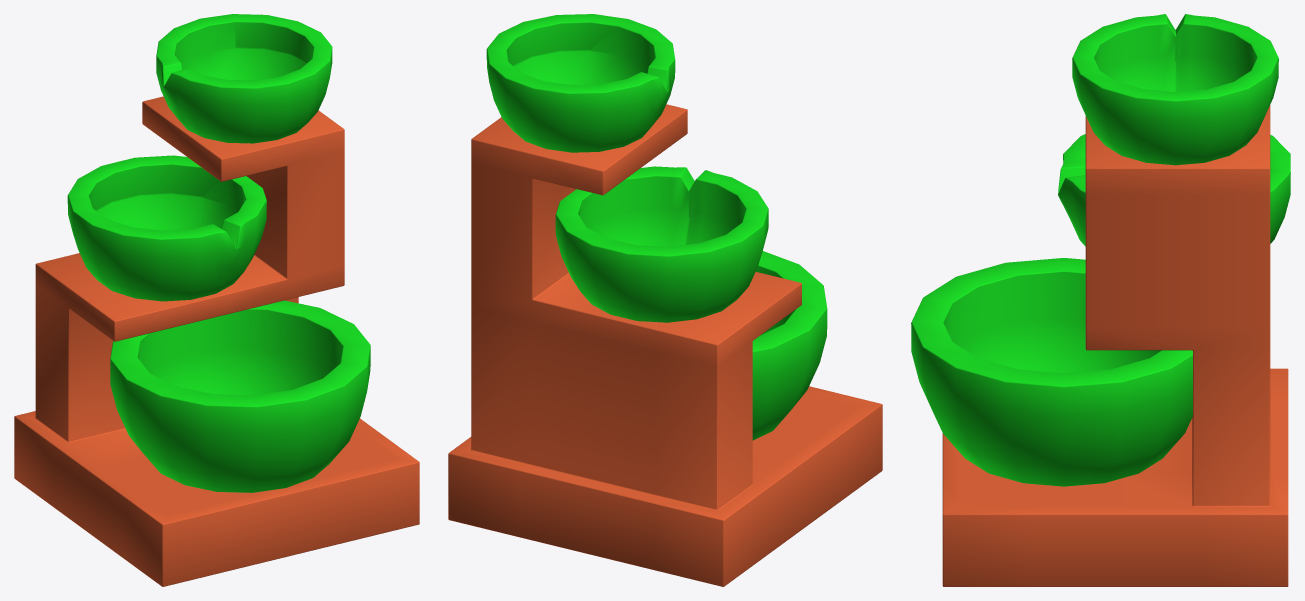
The model's file is WaterFountain.fbx.
3 views of the same model, side by side, from view 1: azimuth 30°, elevation 25°; view 2: azimuth 150°, elevation 25°; view 3: azimuth 270°, elevation 25° (orthographic). The views are drawn at different scales.
Parts seen in each view (by area): view 1: Base_High; view 2: Base_High; view 3: Base_High.
Part boxes in pixels (<box>): Base_High: <box>14,14,419,586</box>; Base_High: <box>448,14,882,586</box>; Base_High: <box>911,14,1290,586</box>.
Size of the model in its own units: 52.6 by 81.38 by 57.46.
